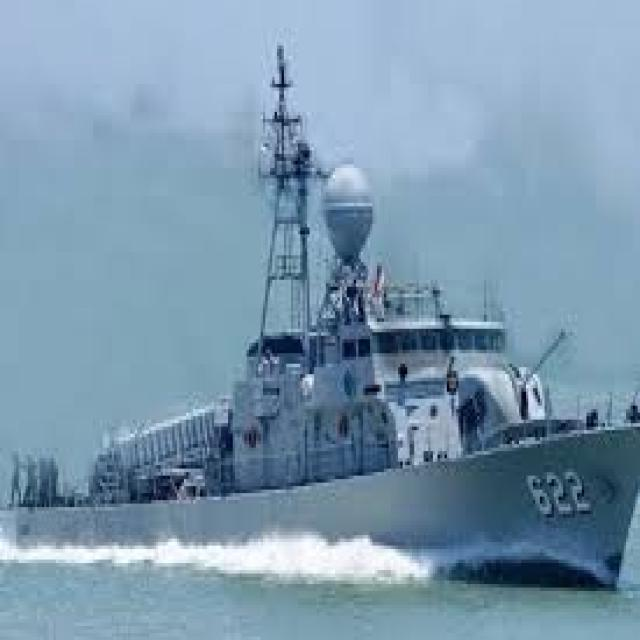navalvessels: (8, 90, 632, 607)
